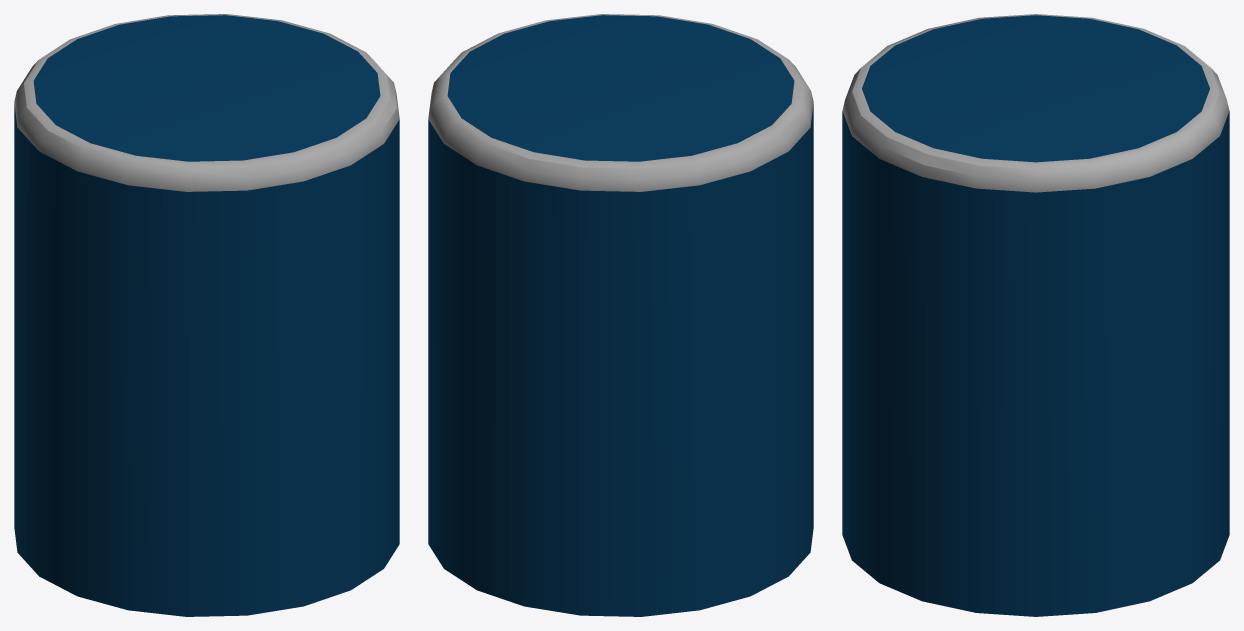
Rendered from Stool.fbx.
3 renders of one model, left to right at view 1: azimuth 30°, elevation 25°; view 2: azimuth 150°, elevation 25°; view 3: azimuth 270°, elevation 25°, orthographic.
Visible parts, largest first — view 1: stool; view 2: stool; view 3: stool.
Boxes of the visible parts, x1,y1,x2,y2 form: stool: (14,14,399,616); stool: (428,14,813,616); stool: (842,14,1229,616).
Size of the model in its own units: 51.34 by 65.35 by 51.34.
